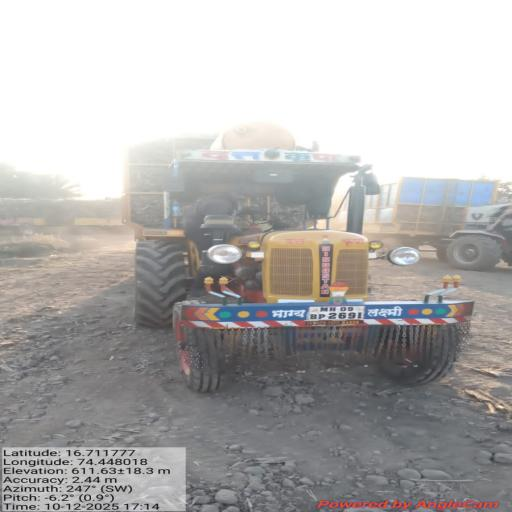number_plate: (304, 300, 374, 327)
